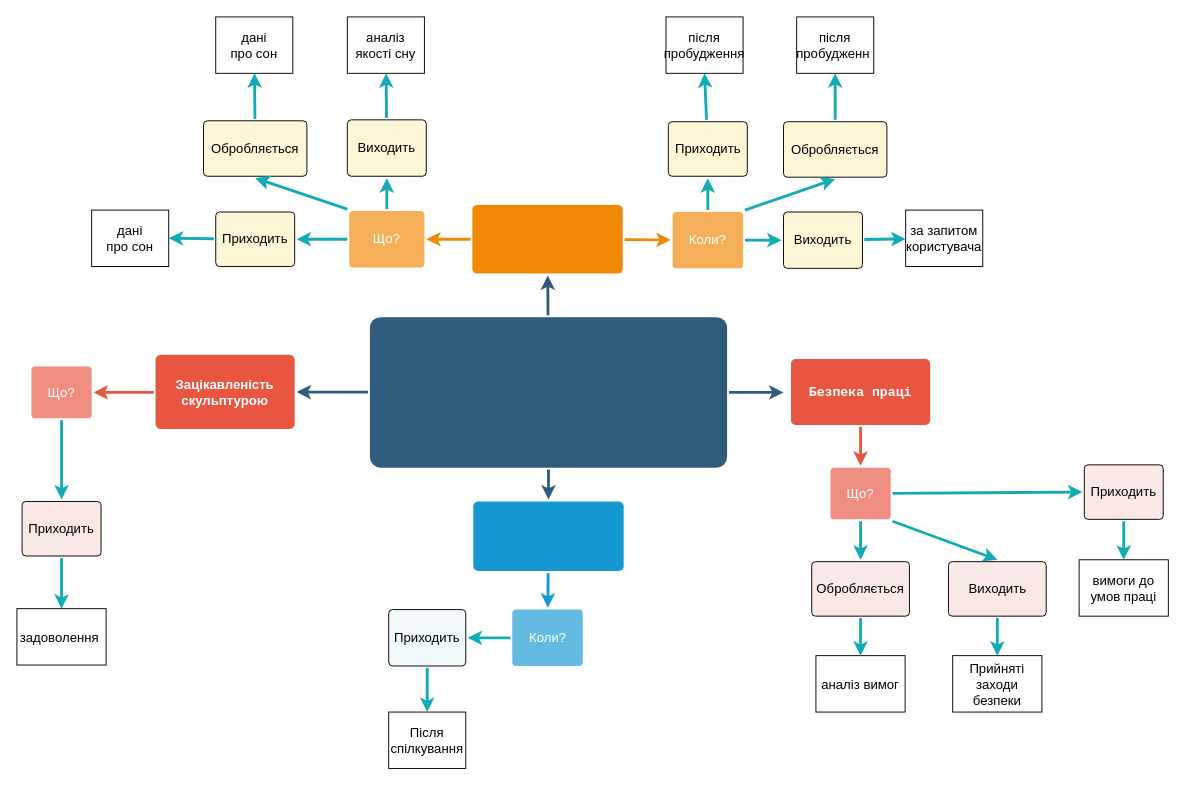
This 1184x785 diagram has some shape labels left out. The box of each missing label's shape, as (x1, y1, x2, y2) in pixels:
Дружба: (473, 501, 623, 571)
Потреби користувача: (369, 317, 727, 467)
Сон: (472, 204, 622, 273)
